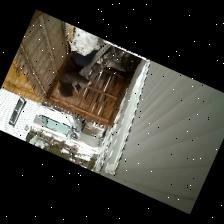person: (59, 49, 99, 97)
